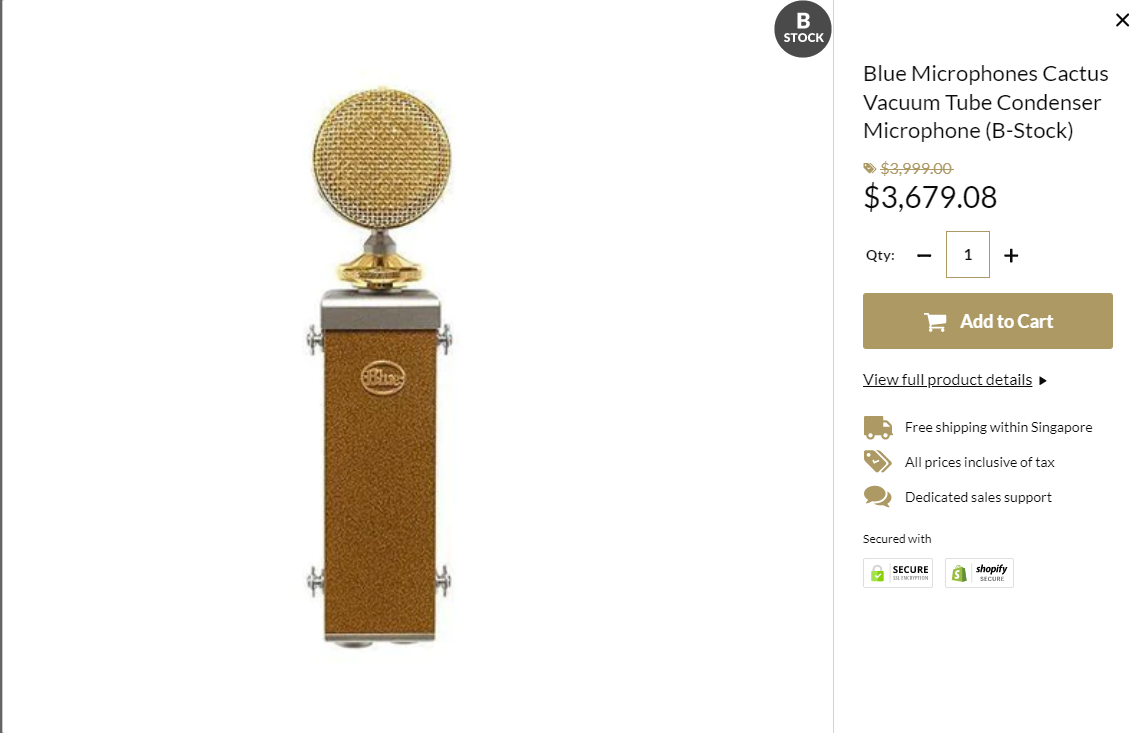microphone: (304, 86, 456, 649)
